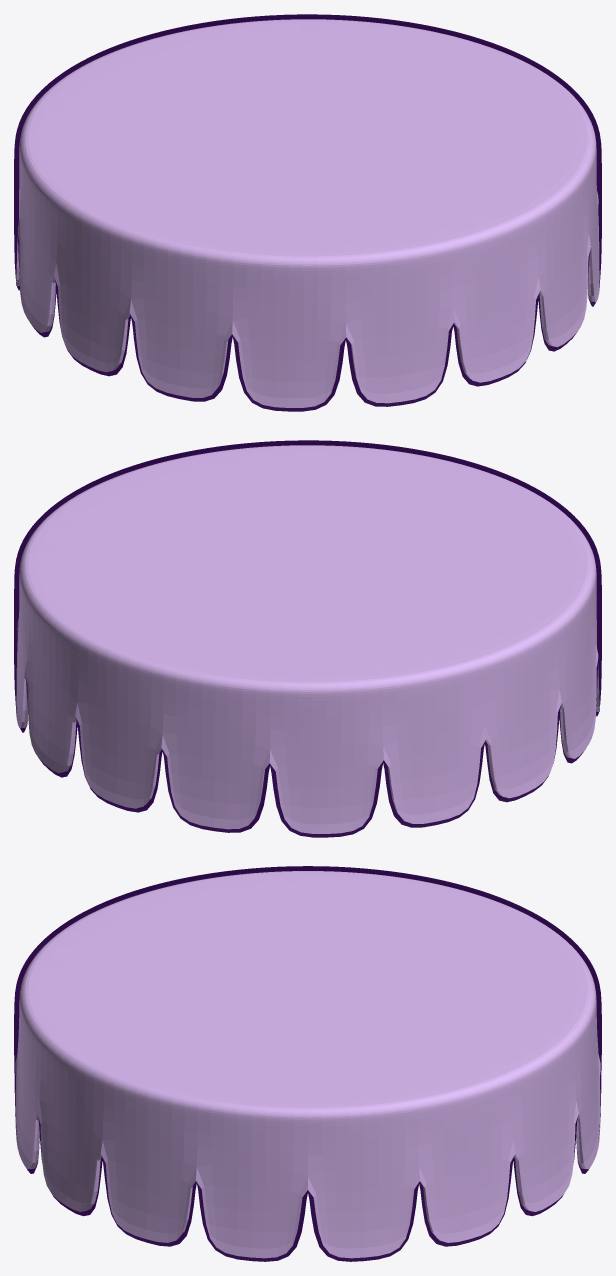
File: circulo lilas.glb
3 views of the same model, one above another, from view 1: azimuth 30°, elevation 25°; view 2: azimuth 150°, elevation 25°; view 3: azimuth 270°, elevation 25° (orthographic).
Visible parts, largest first — view 1: Cylinder.019; view 2: Cylinder.019; view 3: Cylinder.019.
Part boxes in pixels (left/top/right/bottom): Cylinder.019: left=14, top=14, right=601, bottom=411; Cylinder.019: left=14, top=440, right=601, bottom=837; Cylinder.019: left=14, top=866, right=601, bottom=1261.
Bounding box in the file's own units: 22.21 × 6.54 × 22.21.
